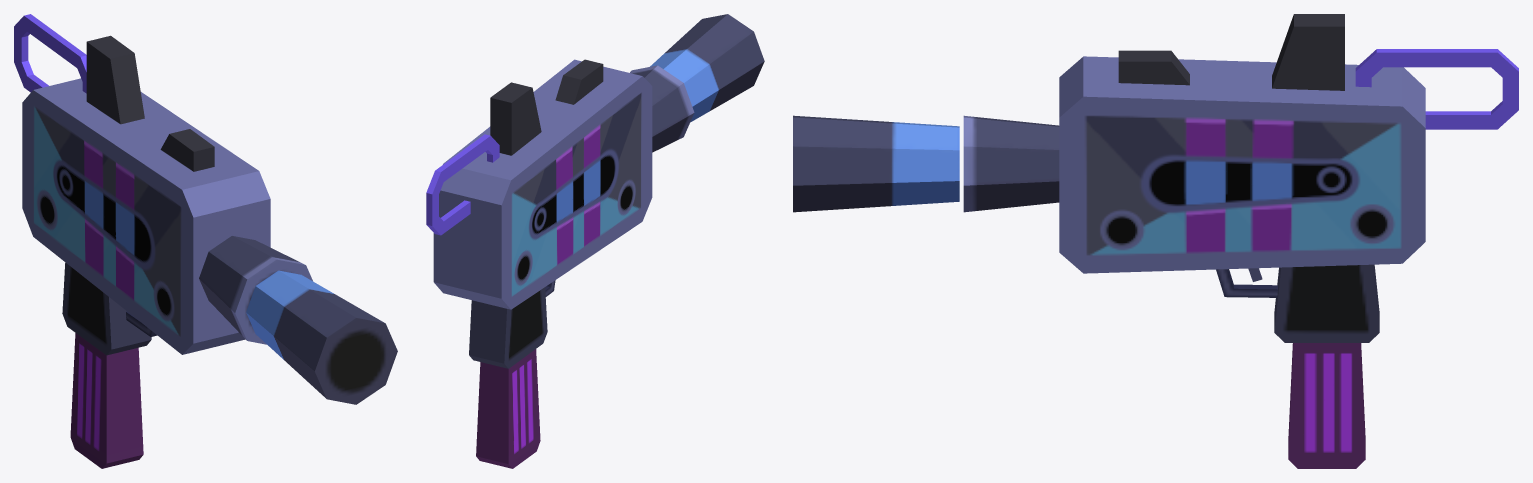
3 views of the same model, side by side, from view 1: azimuth 30°, elevation 25°; view 2: azimuth 150°, elevation 25°; view 3: azimuth 270°, elevation 25° (orthographic). The views are drawn at different scales.
Visible parts, largest first — view 1: UZ; view 2: UZ; view 3: UZ.
Part boxes in pixels (left/top/right/bottom): UZ: left=14, top=14, right=397, bottom=468; UZ: left=426, top=14, right=764, bottom=468; UZ: left=793, top=14, right=1518, bottom=468.
Size of the model in its own units: 0.8704 by 4.1 by 6.14.
Materials: 1 (1 with a texture image).
